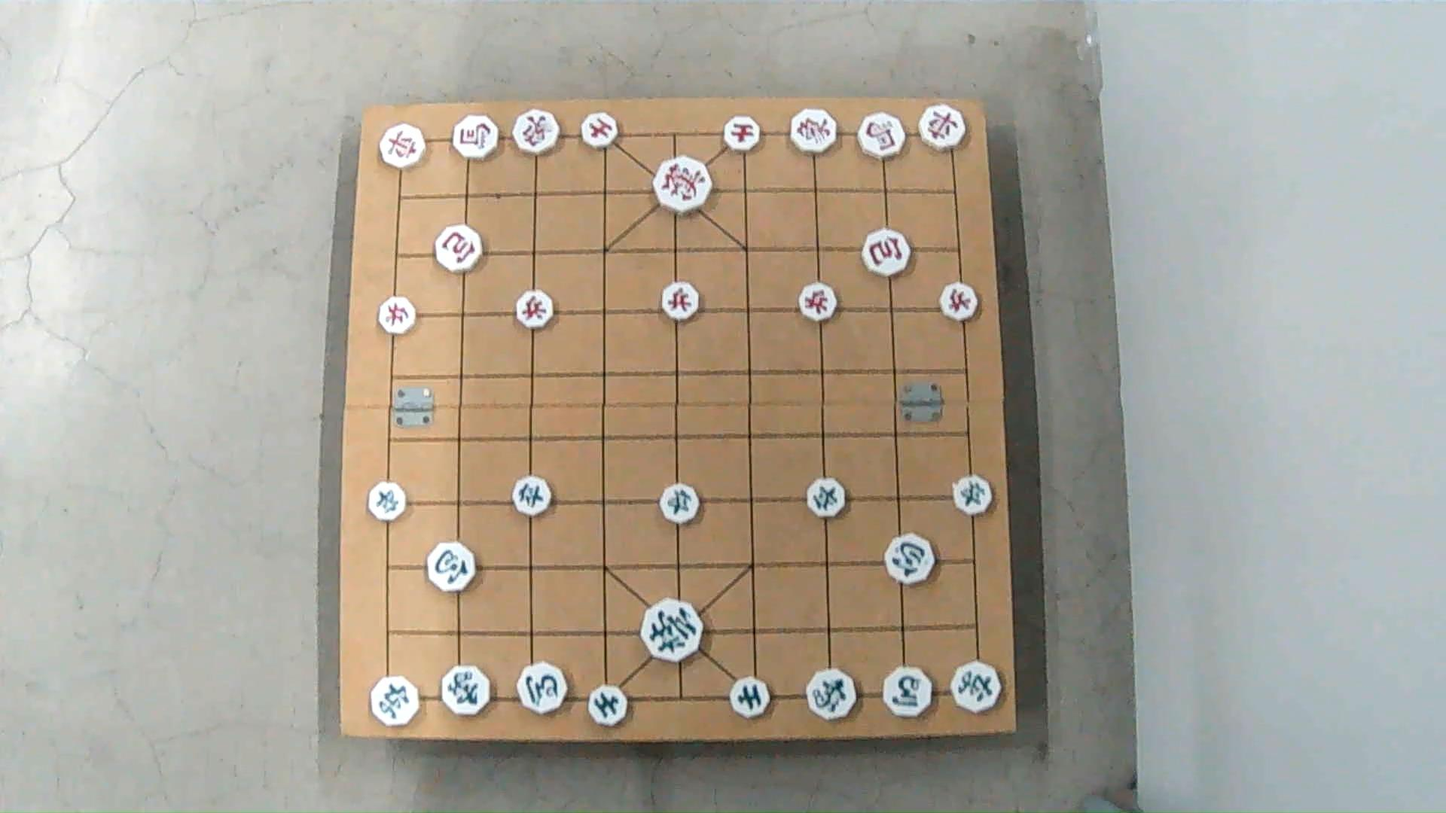cha_green: (953, 661, 1002, 714), (368, 677, 418, 726)
cha_red: (920, 107, 969, 150), (382, 125, 429, 168)
jol_green: (657, 485, 699, 524), (807, 477, 849, 515), (950, 478, 991, 516), (514, 479, 555, 516), (369, 484, 409, 521)
jol_red: (939, 283, 981, 319), (659, 284, 699, 321), (797, 286, 838, 322), (517, 293, 557, 329), (379, 299, 418, 334)
ma_green: (516, 661, 570, 717), (881, 669, 932, 718)
ma_red: (857, 114, 908, 157), (453, 115, 501, 158)
po_green: (883, 536, 934, 585), (428, 543, 477, 589)
po_red: (436, 227, 485, 273), (862, 229, 912, 274)
sa_green: (729, 675, 772, 718), (586, 684, 628, 727)
sa_red: (581, 113, 621, 146), (723, 117, 761, 150)
sang_green: (804, 669, 858, 721), (440, 665, 493, 717)
sang_red: (790, 106, 837, 157), (514, 109, 561, 157)
wang_green: (642, 598, 704, 660)
wang_red: (654, 158, 715, 212)
